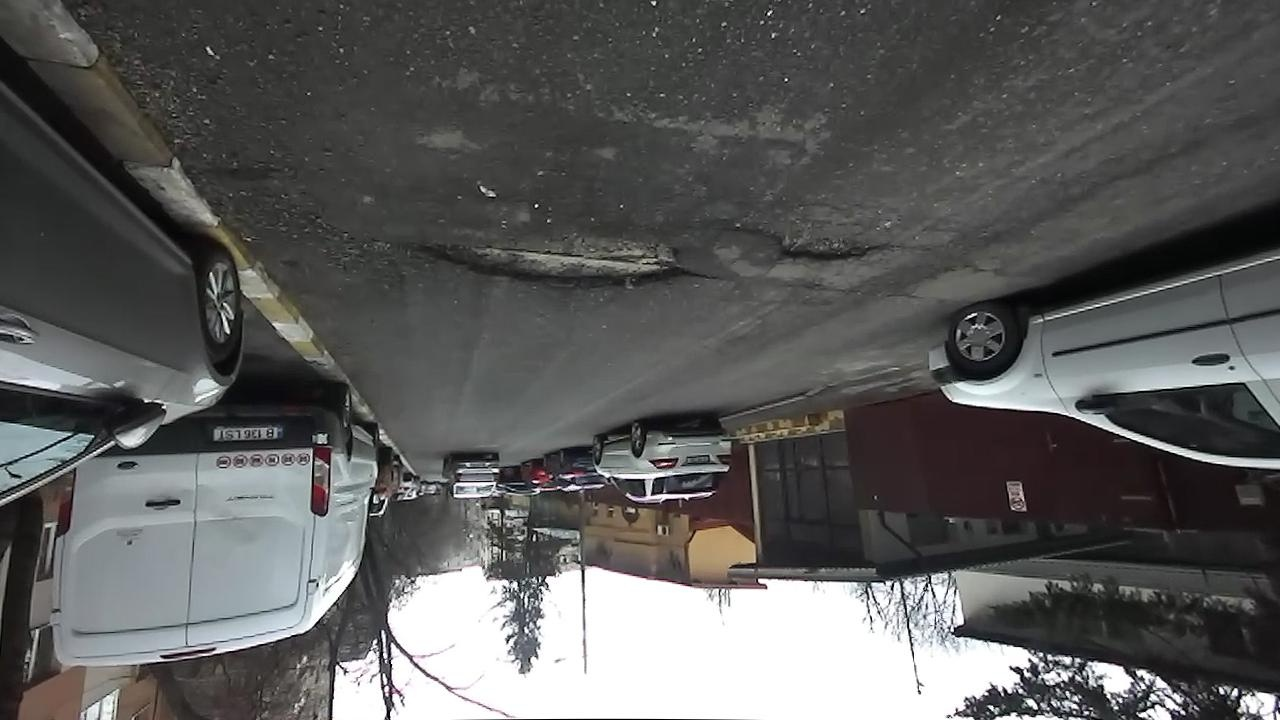pothole: (403, 224, 692, 295), (757, 219, 886, 267)
